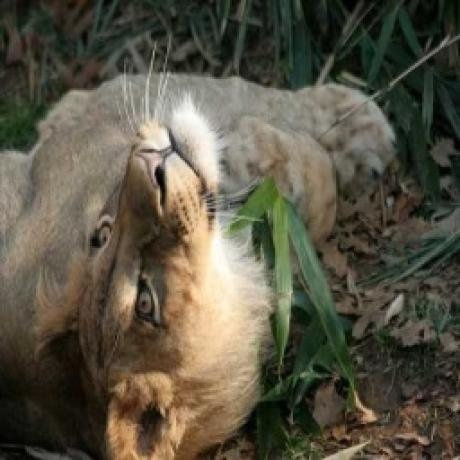Lion: (0, 68, 388, 460)
